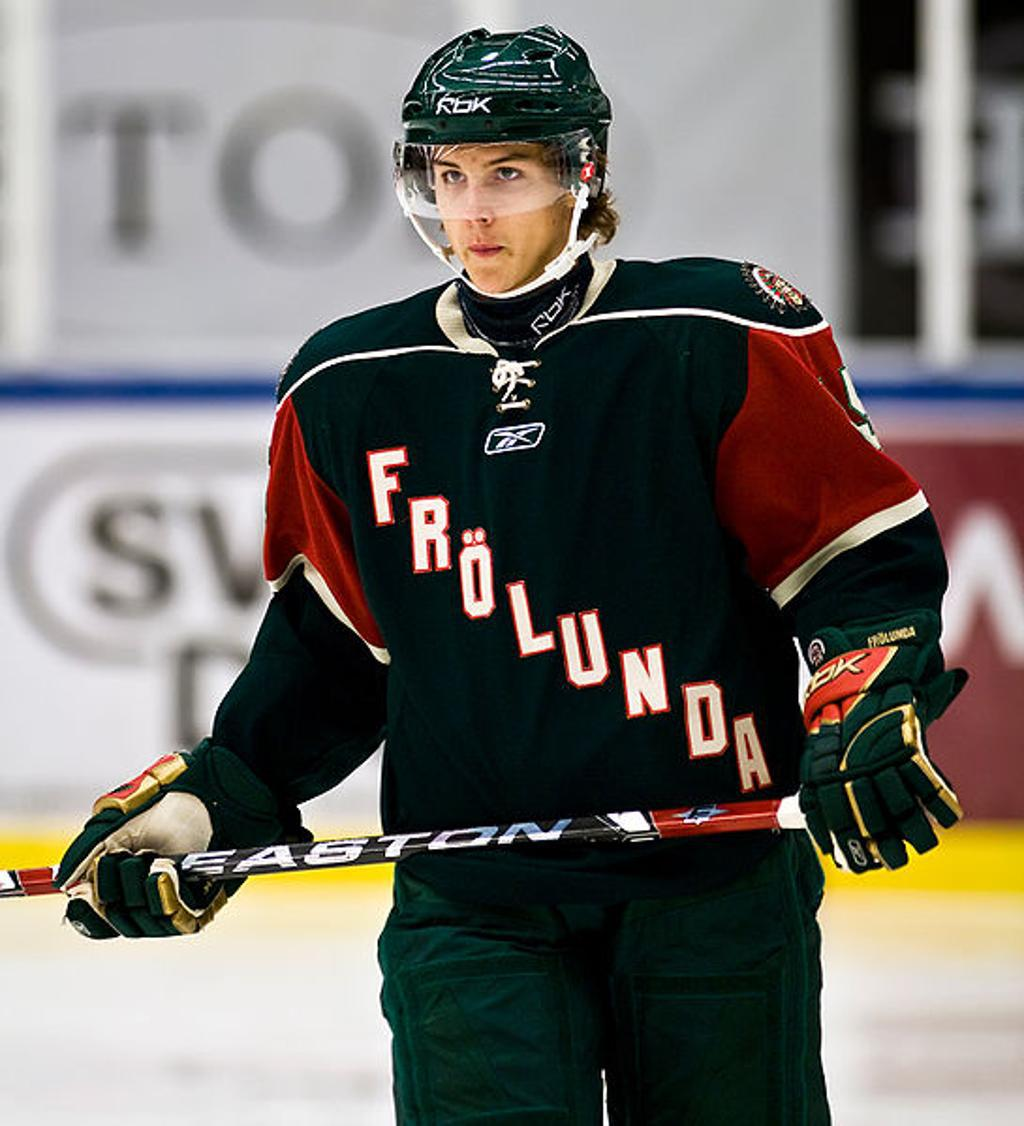face: (434, 109, 559, 296)
